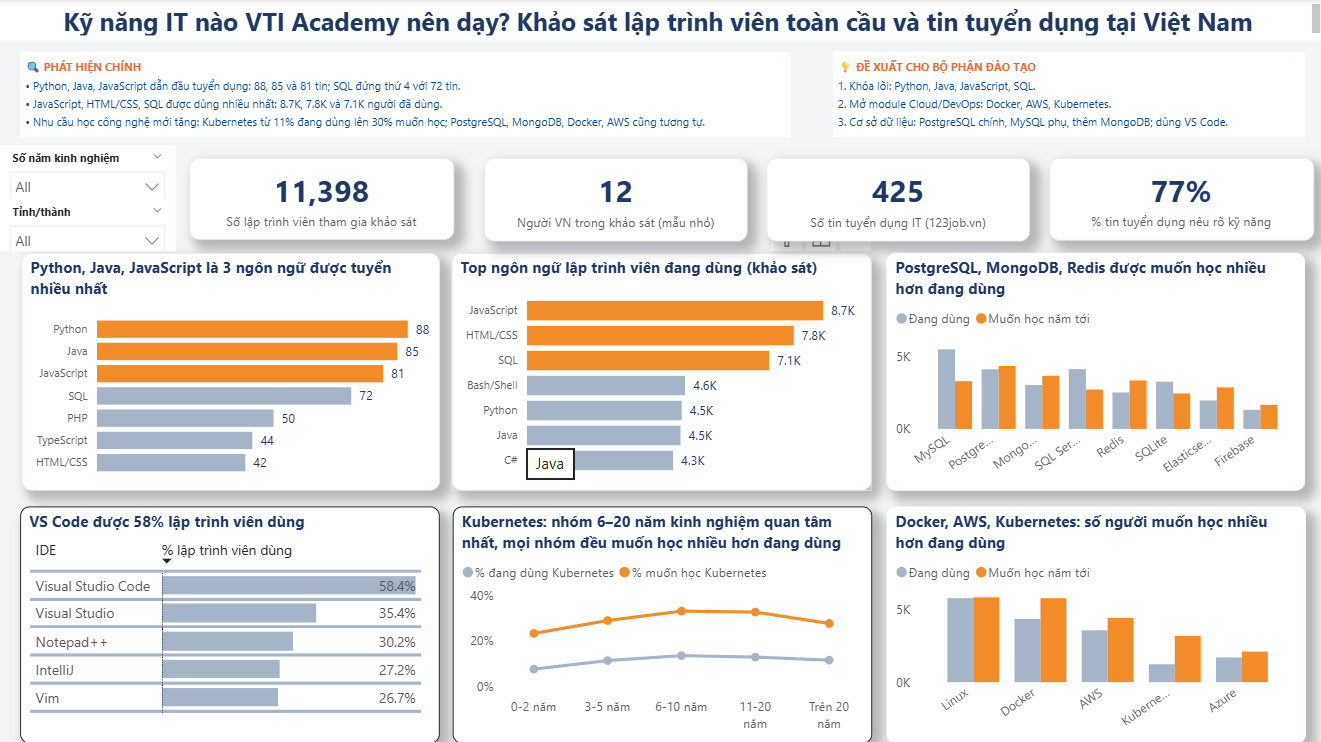

Layout of this report page (visuals, bound fields, positions):
{"tool":"powerbi","page":{"name":"DASHBOARD ","canvas":[1280,720],"ordinal":0},"visuals":[{"type":"card","fields":{"Values":["job_postings.Số lập trình viên tham gia khảo sát"]},"box":[183.7,153.1,256.1,79.6],"z":0},{"type":"actionButton","box":[0,0,100,40],"z":1000},{"type":"textbox","box":[0,0,1280,39.8],"z":2000},{"type":"clusteredBarChart","title":"Python, Java, JavaScript là 3 ngôn ngữ được tuyển nhiều nhất","fields":{"Category":["job_skills.skill"],"Y":["Count(job_skills.job_key)"]},"box":[21.7,244.9,404.2,229.2],"z":3000},{"type":"clusteredBarChart","title":"Top ngôn ngữ lập trình viên đang dùng (khảo sát)","fields":{"Category":["survey_skills.skill"],"Y":["CountNonNull(survey_skills.respondent_id)"]},"box":[436.7,244.9,405.4,229.2],"z":4000},{"type":"card","fields":{"Values":["job_postings.Số người trả lời từ Việt Nam"]},"box":[468.1,153.2,254.6,80.8],"z":5000},{"type":"card","fields":{"Values":["job_postings.Số tin tuyển dụng IT (123job.vn)"]},"box":[740.8,153.2,254.6,80.8],"z":6000},{"type":"card","fields":{"Values":["job_postings.% tin tuyển dụng nêu rõ kỹ năng"]},"box":[1013.4,153.2,255.8,79.6],"z":7000},{"type":"clusteredColumnChart","title":"PostgreSQL, MongoDB, Redis được muốn học nhiều hơn đang dùng","fields":{"Category":["survey_skills.skill"],"Y":["Count(survey_skills.respondent_id)"],"Series":["survey_skills.status"]},"box":[856.6,244.9,404.2,229.2],"z":8000},{"type":"tableEx","title":"VS Code được 58% lập trình viên dùng","fields":{"Values":["survey_skills.skill","survey_skills.% người dùng IDE"]},"box":[20,490,405,228.8],"z":9000},{"type":"lineChart","title":"Kubernetes: nhóm 6–20 năm kinh nghiệm quan tâm nhất, mọi nhóm đều muốn học nhiều hơn đang dùng","fields":{"Y":["survey_skills.% đang dùng Kubernetes","survey_skills.% muốn học Kubernetes"],"Category":["survey_respondents.exp_group"]},"box":[437.5,490,405,228.8],"z":10000},{"type":"clusteredColumnChart","title":"Docker, AWS, Kubernetes: số người muốn học nhiều hơn đang dùng","fields":{"Category":["survey_skills.skill"],"Y":["Count(survey_skills.respondent_id)"],"Series":["survey_skills.status"]},"box":[856.2,490,405,228.8],"z":11000},{"type":"slicer","fields":{"Values":["survey_respondents.exp_group"]},"box":[0,141.3,170.2,52.1],"z":12000},{"type":"slicer","fields":{"Values":["job_postings.province"]},"box":[0,193.5,170.2,50.8],"z":13000},{"type":"textbox","box":[20.5,50.7,744.4,82],"z":14000},{"type":"textbox","box":[804.7,50.7,456,82],"z":15000}]}

Visuals, with their boxes in screenshot pixels (x1, y1, x2, y2), scaled from the page's 1280x720 canvas onto the 1321x742 screenshot:
card - job_postings.Số lập trình viên tham gia khảo sát: left=190, top=158, right=454, bottom=240
actionButton: left=0, top=0, right=103, bottom=41
textbox: left=0, top=0, right=1320, bottom=41
"Python, Java, JavaScript là 3 ngôn ngữ được tuyển nhiều nhất" clusteredBarChart: left=22, top=252, right=440, bottom=489
"Top ngôn ngữ lập trình viên đang dùng (khảo sát)" clusteredBarChart: left=451, top=252, right=869, bottom=489
card - job_postings.Số người trả lời từ Việt Nam: left=483, top=158, right=746, bottom=241
card - job_postings.Số tin tuyển dụng IT (123job.vn): left=765, top=158, right=1027, bottom=241
card - job_postings.% tin tuyển dụng nêu rõ kỹ năng: left=1046, top=158, right=1310, bottom=240
"PostgreSQL, MongoDB, Redis được muốn học nhiều hơn đang dùng" clusteredColumnChart: left=884, top=252, right=1301, bottom=489
"VS Code được 58% lập trình viên dùng" tableEx: left=21, top=505, right=439, bottom=741
"Kubernetes: nhóm 6–20 năm kinh nghiệm quan tâm nhất, mọi nhóm đều muốn học nhiều hơn đang dùng" lineChart: left=452, top=505, right=869, bottom=741
"Docker, AWS, Kubernetes: số người muốn học nhiều hơn đang dùng" clusteredColumnChart: left=884, top=505, right=1302, bottom=741
slicer - survey_respondents.exp_group: left=0, top=146, right=176, bottom=199
slicer - job_postings.province: left=0, top=199, right=176, bottom=252
textbox: left=21, top=52, right=789, bottom=137
textbox: left=830, top=52, right=1301, bottom=137
